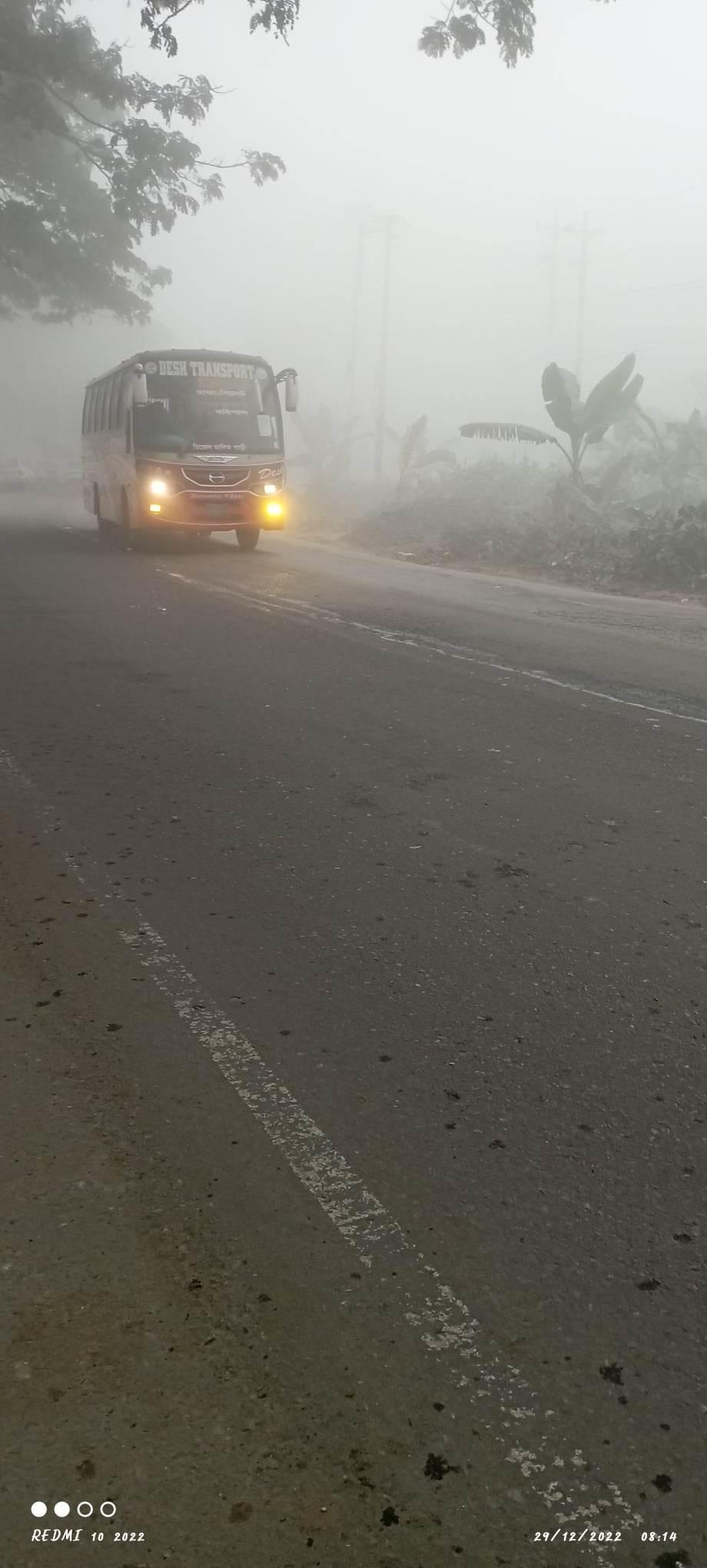Bus: (52, 310, 309, 591)
